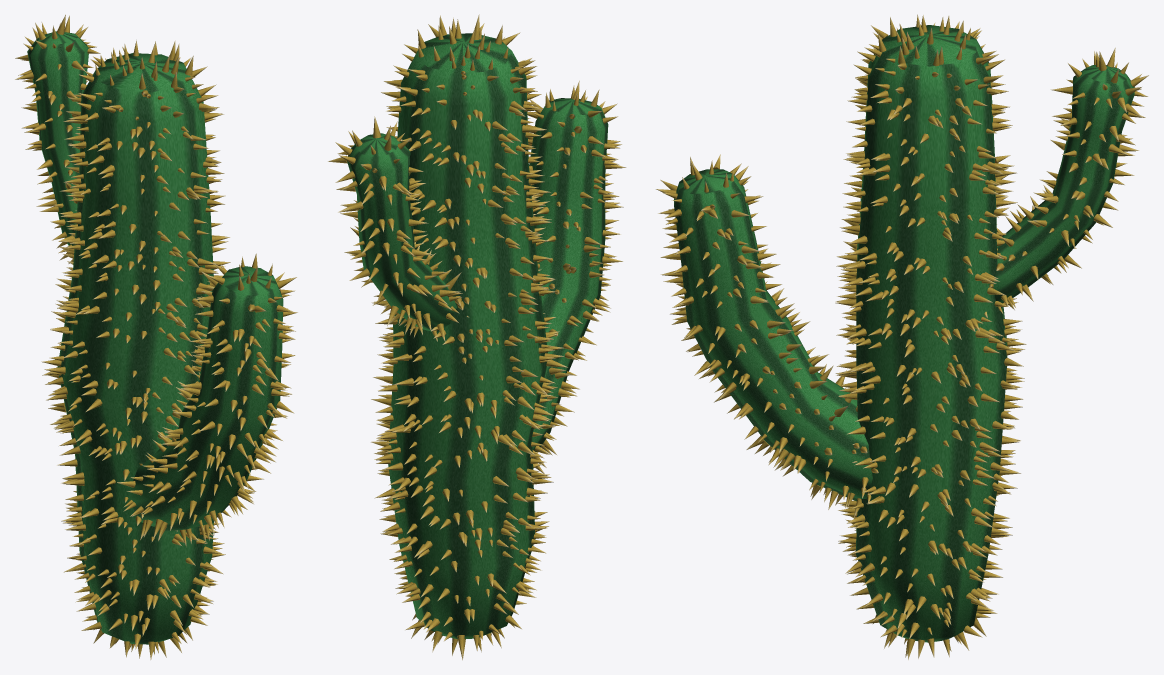
Rendered from cactus.glb.
3 views of the same model, side by side, from view 1: azimuth 30°, elevation 25°; view 2: azimuth 150°, elevation 25°; view 3: azimuth 270°, elevation 25° (orthographic). The views are drawn at different scales.
Visible parts, largest first — view 1: cactus 2; view 2: cactus 2; view 3: cactus 2.
Part boxes in pixels (x1,y1,x2,y2): cactus 2: (15,14,297,659); cactus 2: (328,14,626,660); cactus 2: (656,14,1148,659).
Bounding box in the file's own units: 47.25 × 163 × 116.
1 material, 1 textured.
